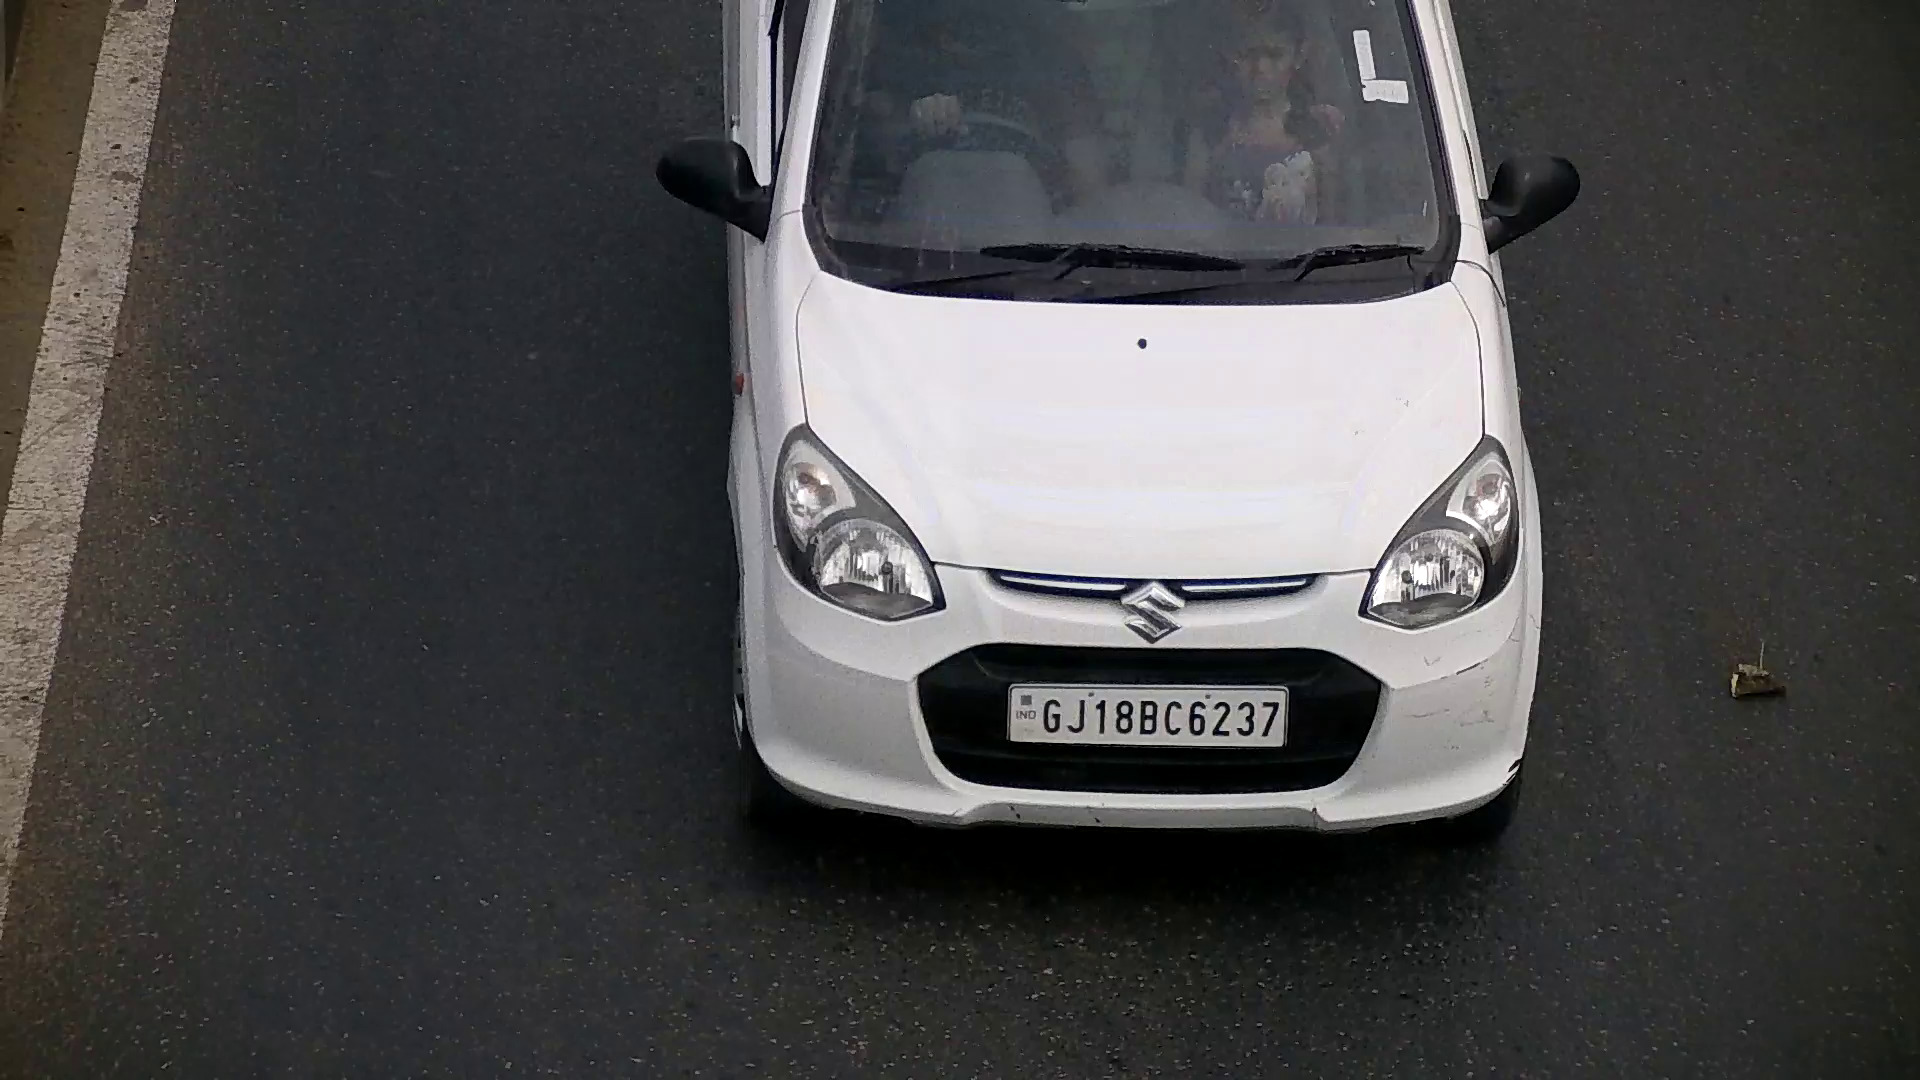numberplate: (997, 680, 1292, 750)
